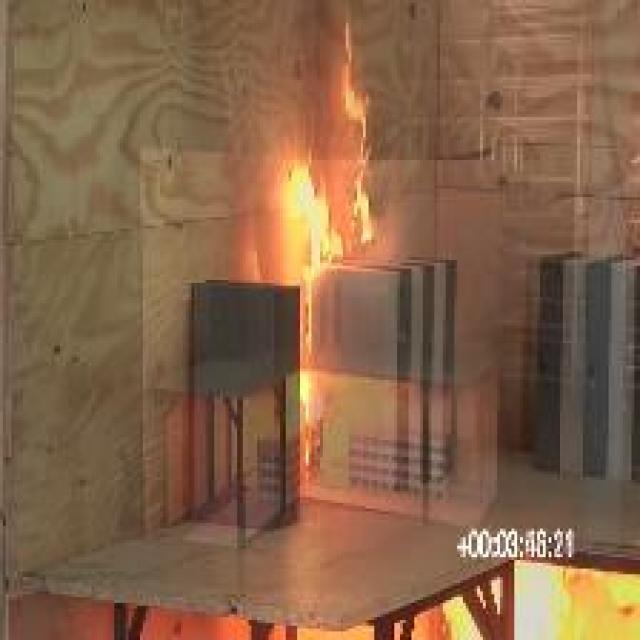Fire: (284, 25, 376, 268)
